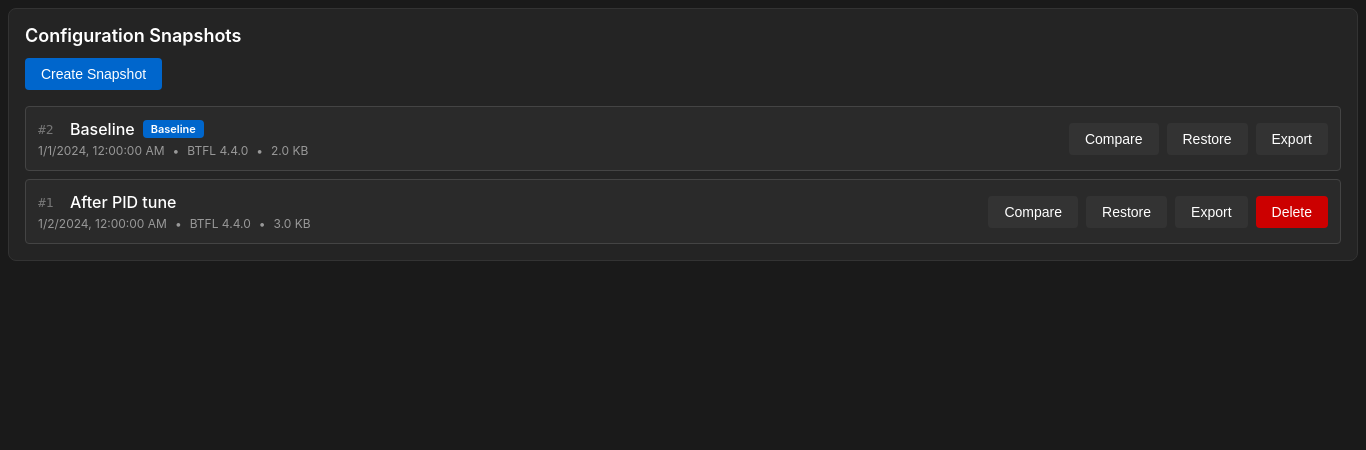
Scenario: SnapshotManager › shows restore confirmation dialog when restore clicked
Check: the text "After PID tune" is shown, box [70,192,176,212]
Step 1. Click the button "Restore" in the row of "2.0 KB" → (1207,138), box [1166,122,1248,154]
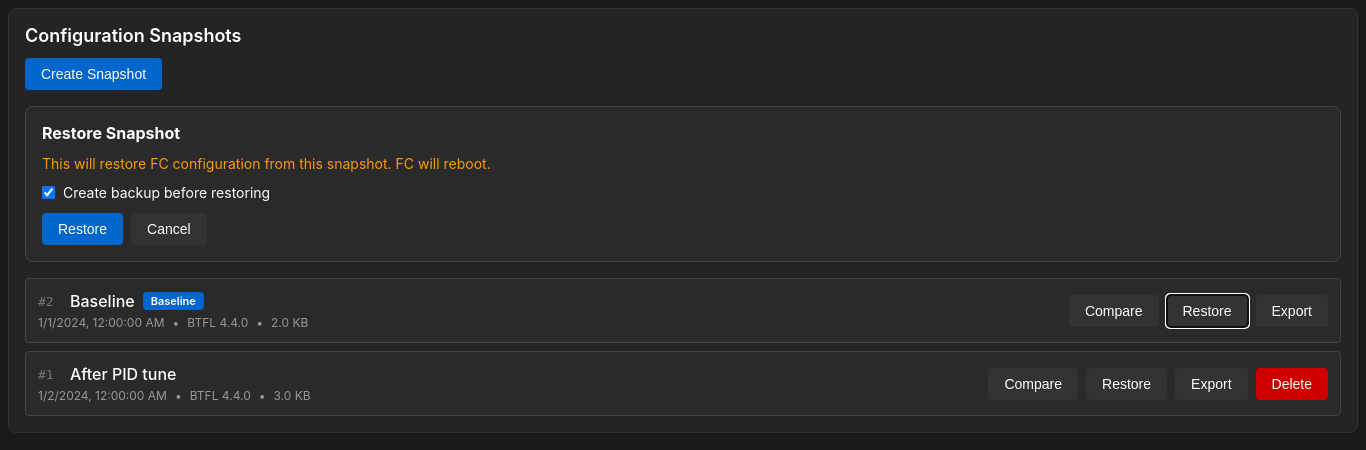
Check: the heading "Restore Snapshot" is shown, box [42,123,180,143]
Check: the text "This will restore FC configuration" is shown, box [42,155,491,172]
